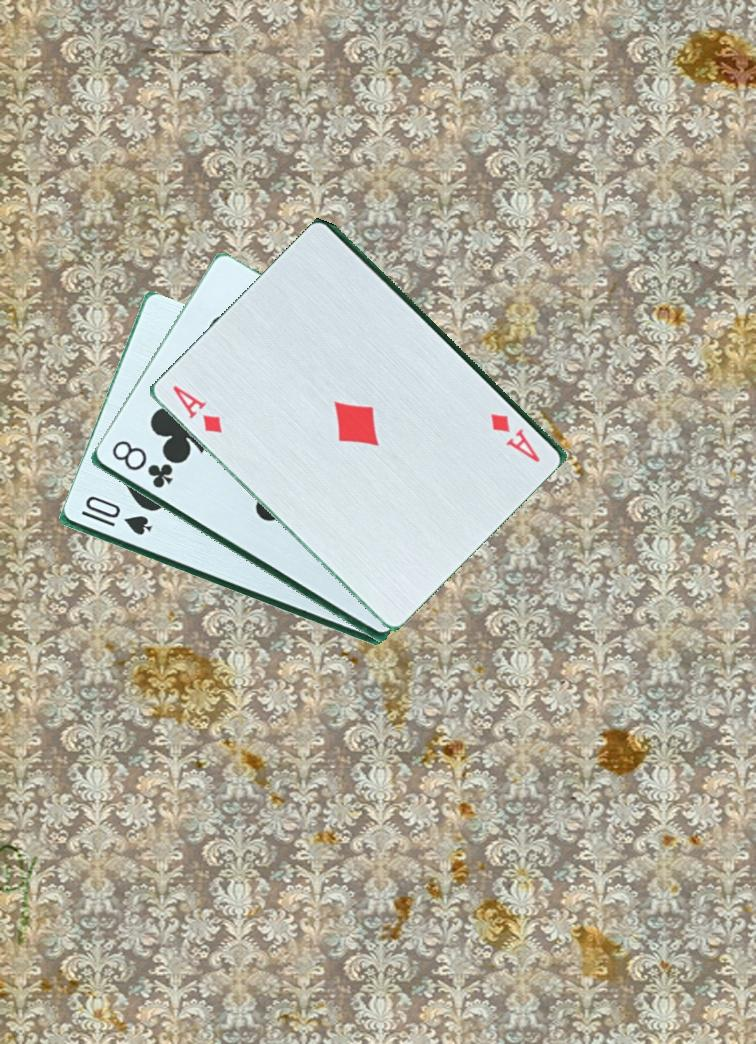8c: (107, 437, 175, 492)
ad: (485, 396, 547, 471), (167, 381, 225, 436)
ts: (77, 494, 155, 539)
